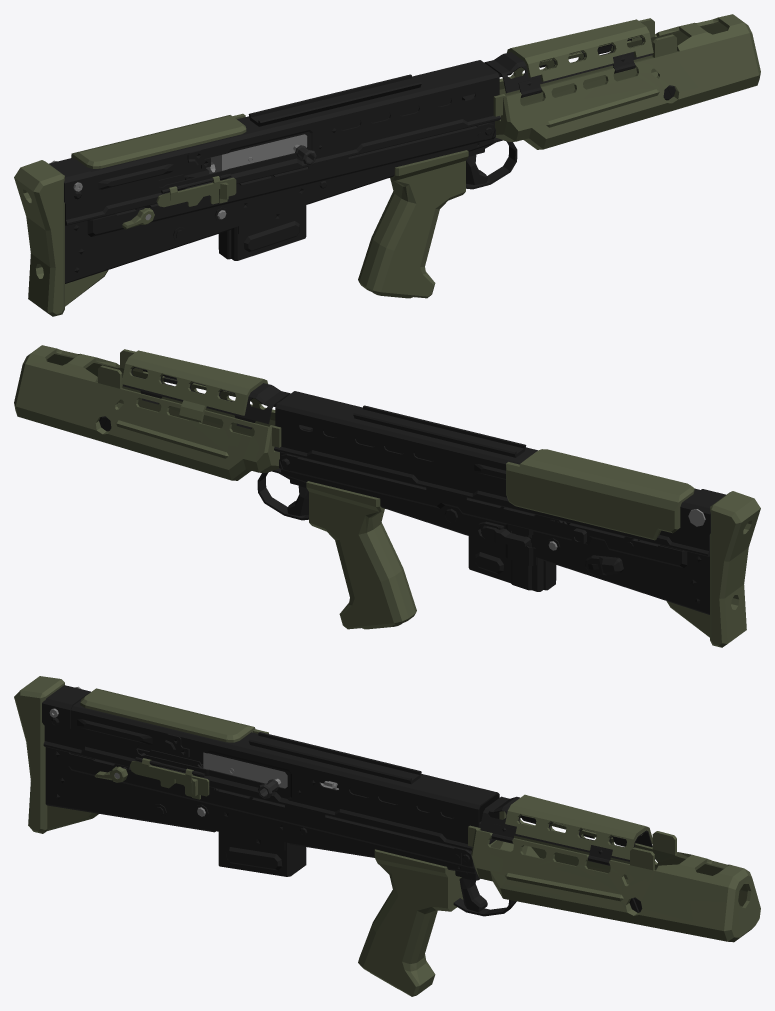
3 views of the same model, one above another, from view 1: azimuth 30°, elevation 25°; view 2: azimuth 150°, elevation 25°; view 3: azimuth 330°, elevation 25° (orthographic).
Visible parts, largest first — view 1: l85a1 lower_10 (×2), l85a1 upper_15 (×2), l81a1 handguard_4 (×2), l85a1 bolt_6, l85a1 dust cover_7; view 2: l85a1 lower_10 (×2), l85a1 upper_15 (×2), l81a1 handguard_4 (×2), l85a1 selector_13, l85a1 mag catch_11; view 3: l85a1 lower_10 (×2), l85a1 upper_15 (×2), l81a1 handguard_4 (×2), l85a1 bolt_6, l85a1 dust cover_7, l85a1 trigga_14.
Part boxes in pixels (left/top/right/bottom): l85a1 lower_10 (×2): left=14, top=123, right=517, bottom=316; l85a1 upper_15 (×2): left=49, top=60, right=500, bottom=225; l81a1 handguard_4 (×2): left=484, top=14, right=760, bottom=149; l85a1 bolt_6: left=206, top=134, right=307, bottom=173; l85a1 dust cover_7: left=156, top=176, right=236, bottom=207; l85a1 lower_10 (×2): left=257, top=454, right=760, bottom=647; l85a1 upper_15 (×2): left=274, top=391, right=725, bottom=556; l81a1 handguard_4 (×2): left=14, top=345, right=290, bottom=480; l85a1 selector_13: left=585, top=555, right=623, bottom=575; l85a1 mag catch_11: left=481, top=525, right=530, bottom=548; l85a1 lower_10 (×2): left=14, top=676, right=516, bottom=996; l85a1 upper_15 (×2): left=42, top=685, right=499, bottom=850; l81a1 handguard_4 (×2): left=468, top=794, right=760, bottom=942; l85a1 bolt_6: left=203, top=752, right=338, bottom=789; l85a1 dust cover_7: left=129, top=758, right=209, bottom=799; l85a1 trigga_14: left=459, top=850, right=487, bottom=912.
Bounding box in the file's own units: 6.35 × 1.81 × 0.7019.
